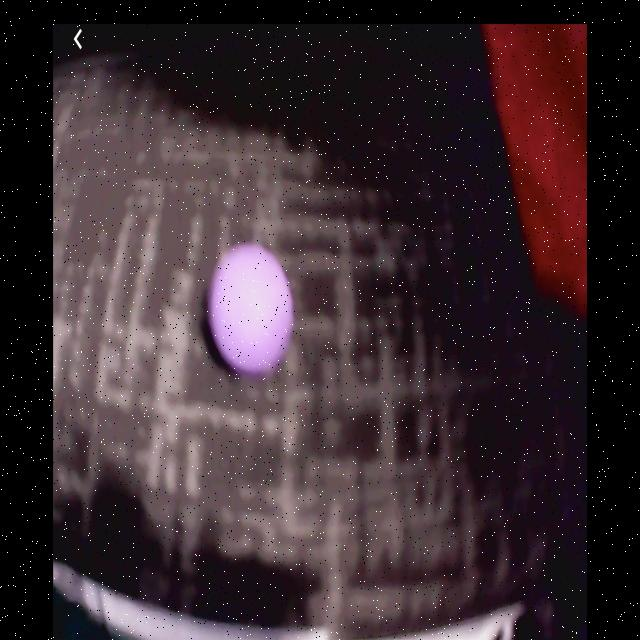ball: (211, 248, 292, 379)
